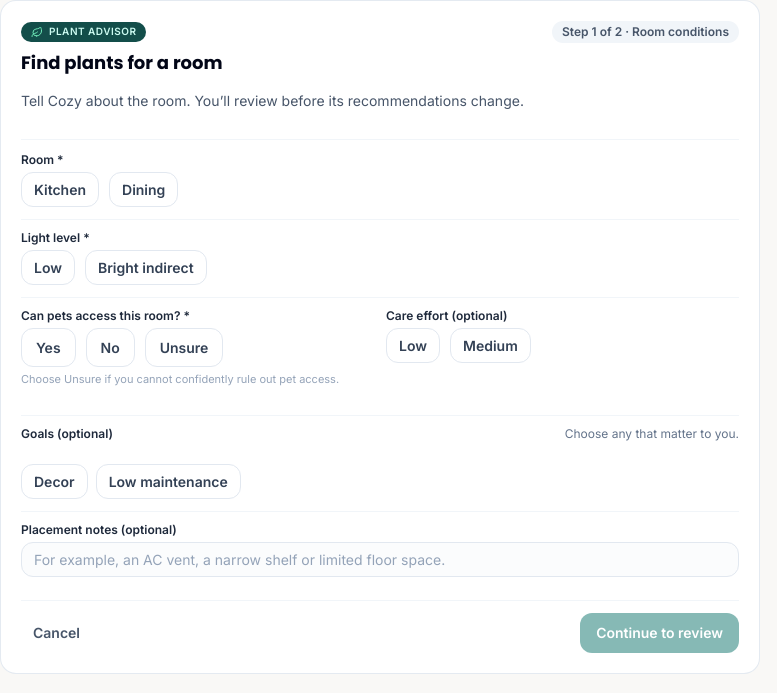
Scenario: Plant Advisor compact capture › uses the compact redesign without guessing pet access or skipping review
The width and height of the screenshot is (777, 693).
expect the element that starts with "Room" is shown: met, box [21,152,739,584]
expect the text "Choose any that matter to you." is shown: met, box [565,426,739,442]
Click the button "Kitchen".
click(60, 189)  # box [21,172,99,207]
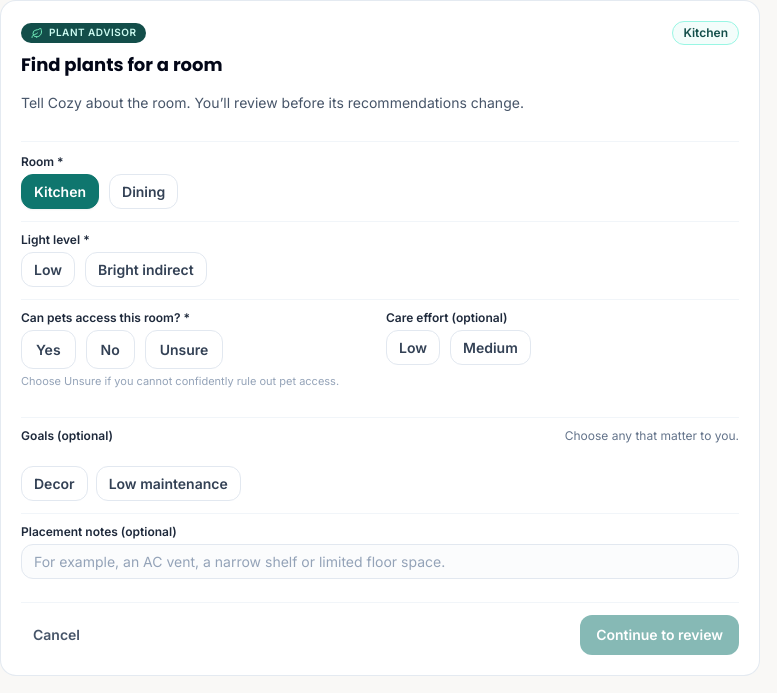
Click the button "Bright indirect".
click(146, 269)  # box [85,252,207,287]
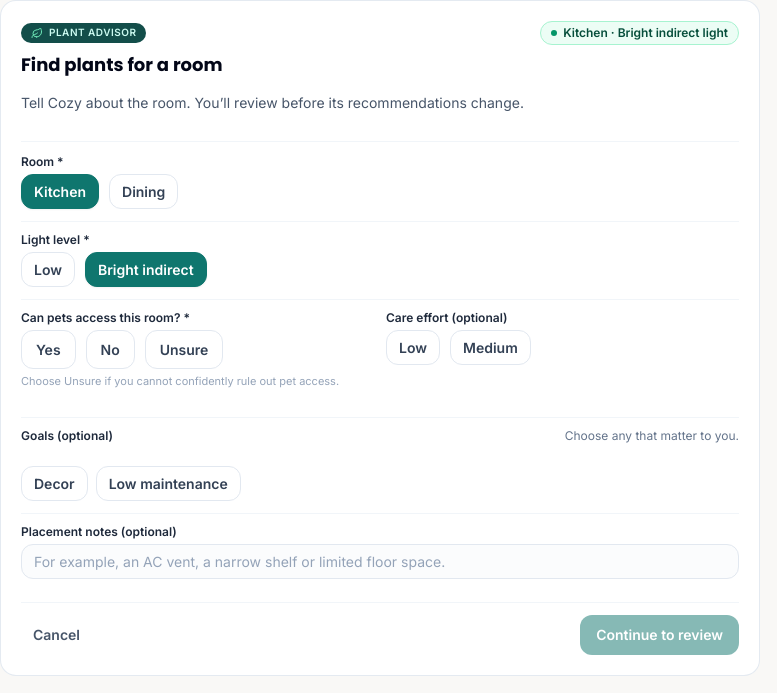
expect the text "Kitchen · Bright indirect light" is shown: met, box [540,21,739,45]
Click the button "Unsure".
click(184, 349)  # box [145,330,223,369]
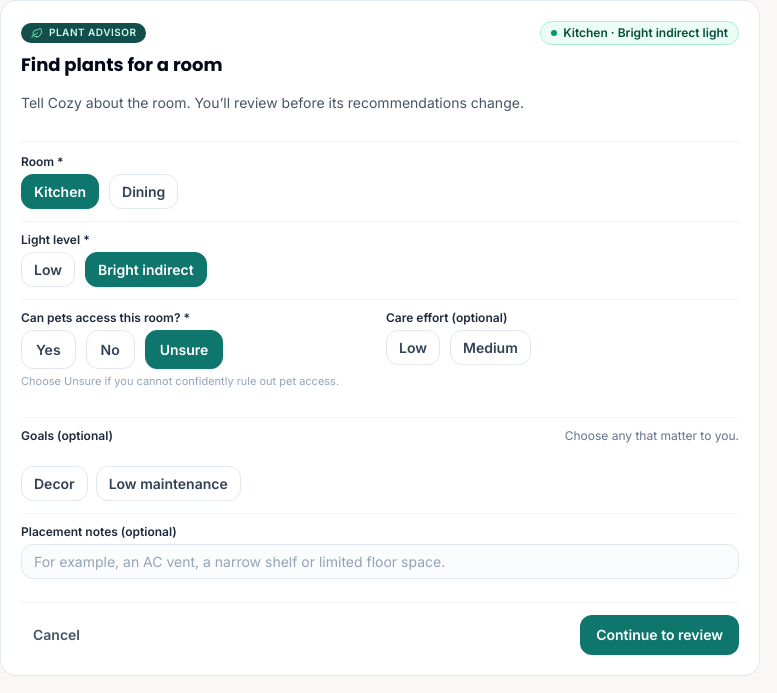
expect the button "Continue to review" is enabled: met, box [580,615,739,655]
